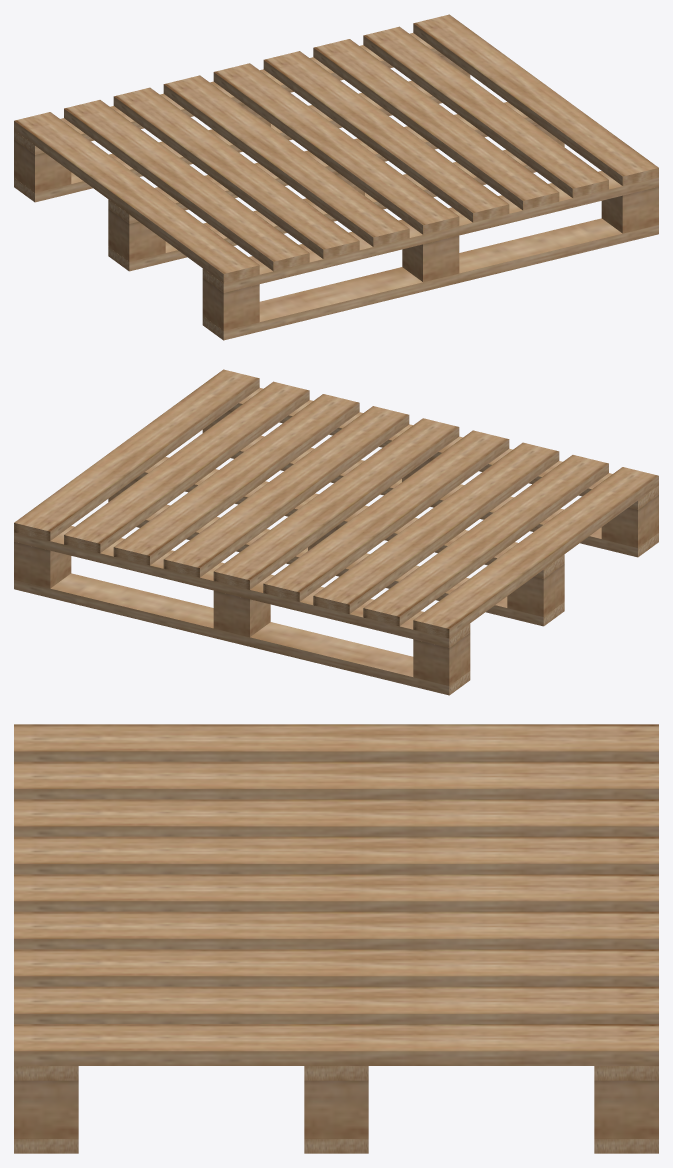
File: pallet.fbx
3 views of the same model, one above another, from view 1: azimuth 30°, elevation 25°; view 2: azimuth 150°, elevation 25°; view 3: azimuth 270°, elevation 25° (orthographic). The views are drawn at different scales.
Parts seen in each view (by area): view 1: Cube.002, Cube.003, Cube.004, Cube, Cube.001; view 2: Cube.002, Cube.003, Cube.004, Cube, Cube.001; view 3: Cube.002, Cube, Cube.003, Cube.004.
Boxes of the visible parts, bbox=[...] form: Cube.002: bbox=[14, 14, 658, 283]; Cube.003: bbox=[14, 80, 658, 340]; Cube.004: bbox=[14, 33, 658, 292]; Cube: bbox=[14, 55, 658, 330]; Cube.001: bbox=[241, 104, 459, 282]; Cube.002: bbox=[14, 369, 658, 638]; Cube.003: bbox=[14, 435, 658, 695]; Cube.004: bbox=[14, 388, 658, 647]; Cube: bbox=[14, 410, 658, 685]; Cube.001: bbox=[213, 459, 431, 637]; Cube.002: bbox=[14, 724, 658, 1065]; Cube: bbox=[14, 1080, 658, 1138]; Cube.003: bbox=[14, 1139, 658, 1153]; Cube.004: bbox=[14, 1066, 658, 1080].
Bounding box in the file's own units: 120 × 17.5 × 100.
1 material, 1 textured.
